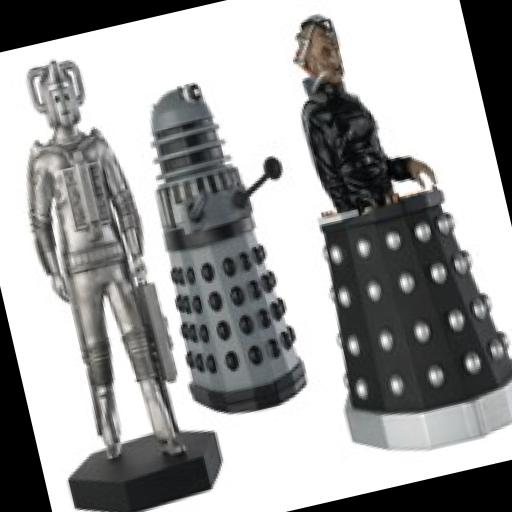dalek: (253, 0, 512, 468), (120, 62, 334, 424)
